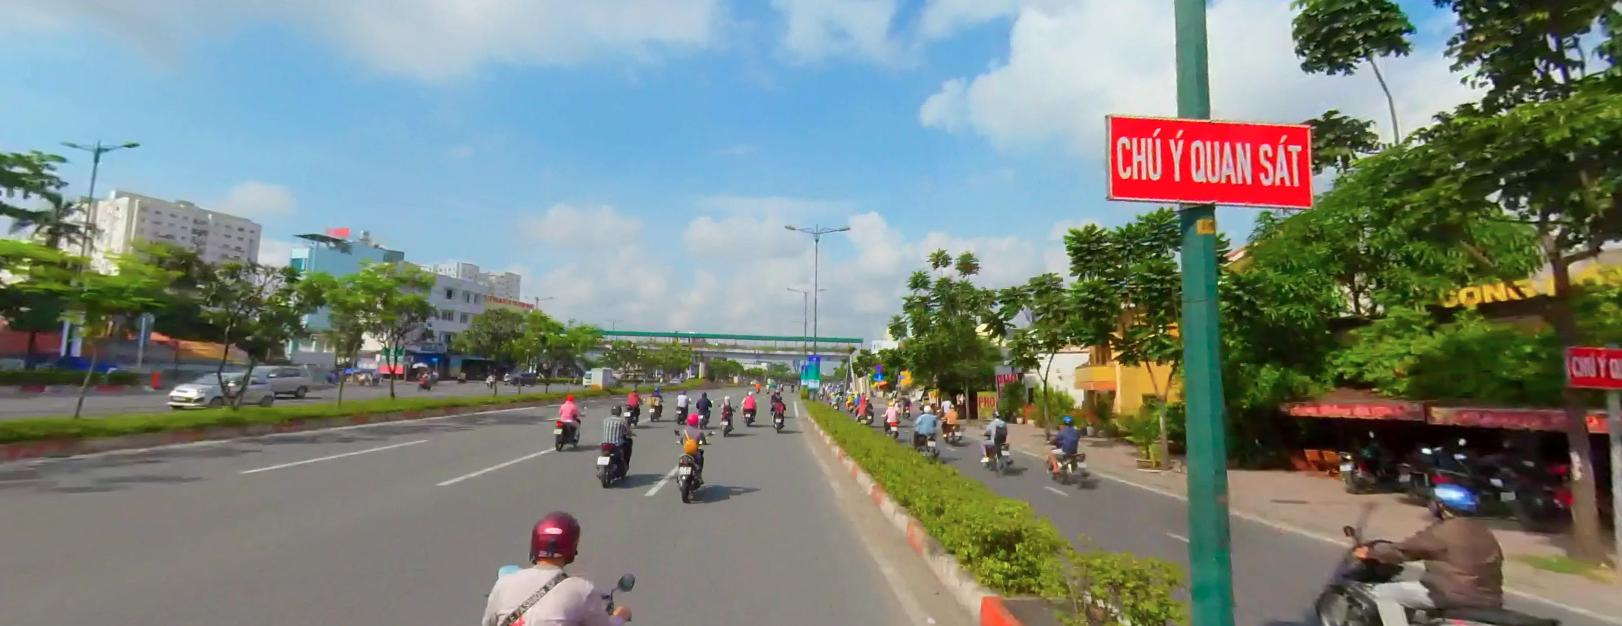Cam dung va do: (874, 362, 882, 370)
